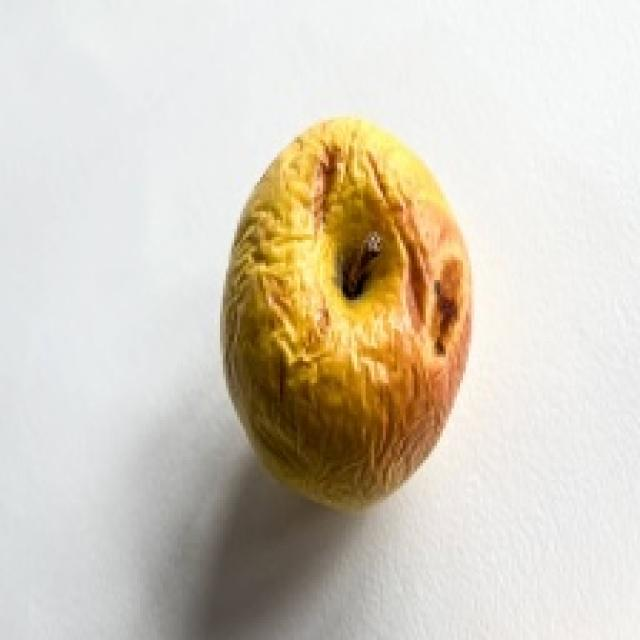rotten_apple: (222, 120, 469, 502)
